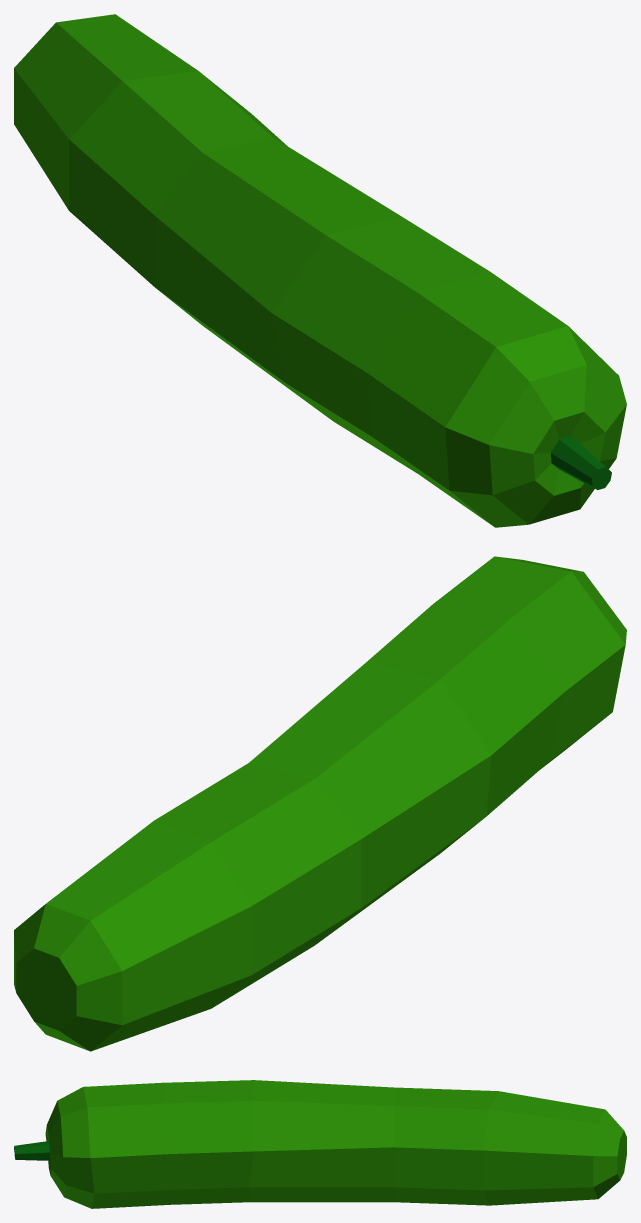
Rendered from cucumber01.obj.
The picture shows the model from 3 angles, top to bottom: view 1: azimuth 30°, elevation 25°; view 2: azimuth 150°, elevation 25°; view 3: azimuth 270°, elevation 25°; orthographic projection. The views are drawn at different scales.
Visible parts, largest first — view 1: Cylinder; view 2: Cylinder; view 3: Cylinder.
Boxes of the visible parts, left/top/right/bottom form: Cylinder: left=14, top=14, right=626, bottom=527; Cylinder: left=14, top=556, right=626, bottom=1051; Cylinder: left=14, top=1080, right=626, bottom=1208.
Size of the model in its own units: 0.0604 by 0.0543 by 0.2878.
Materials: 1 (1 with a texture image).
